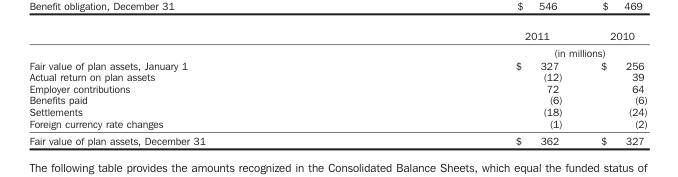table: (28, 28, 646, 145)
table column: (28, 28, 359, 145), (359, 28, 580, 145), (580, 28, 646, 145)
table column header: (28, 28, 646, 58)
table row: (28, 28, 646, 43), (28, 43, 646, 58), (28, 117, 646, 131), (28, 131, 646, 145), (28, 58, 646, 70), (28, 70, 646, 82), (28, 93, 646, 105), (28, 105, 646, 117), (28, 82, 646, 93)
table spanning cell: (359, 43, 646, 58)
